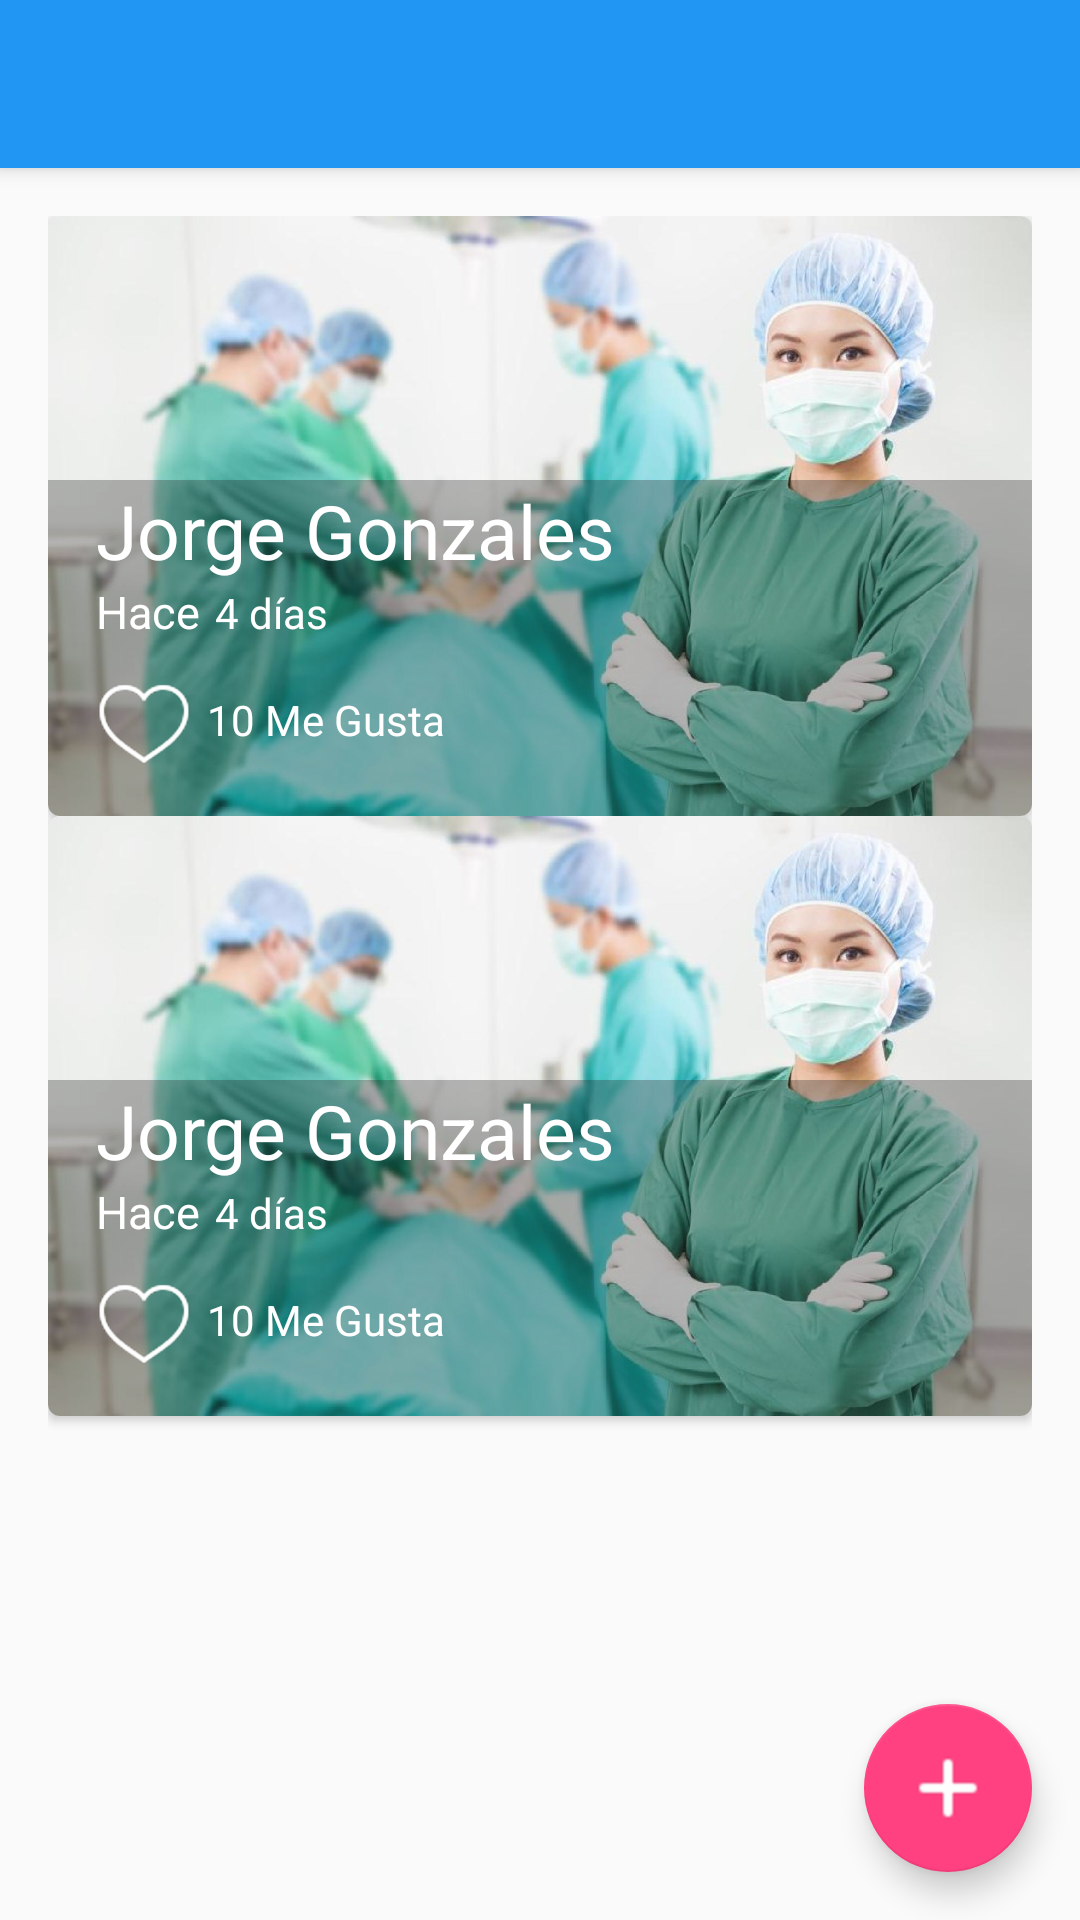

Icons on this 1080 × 1920 Android screen, each with the point to tap as point (x, y):
plus: point (948, 1788)
